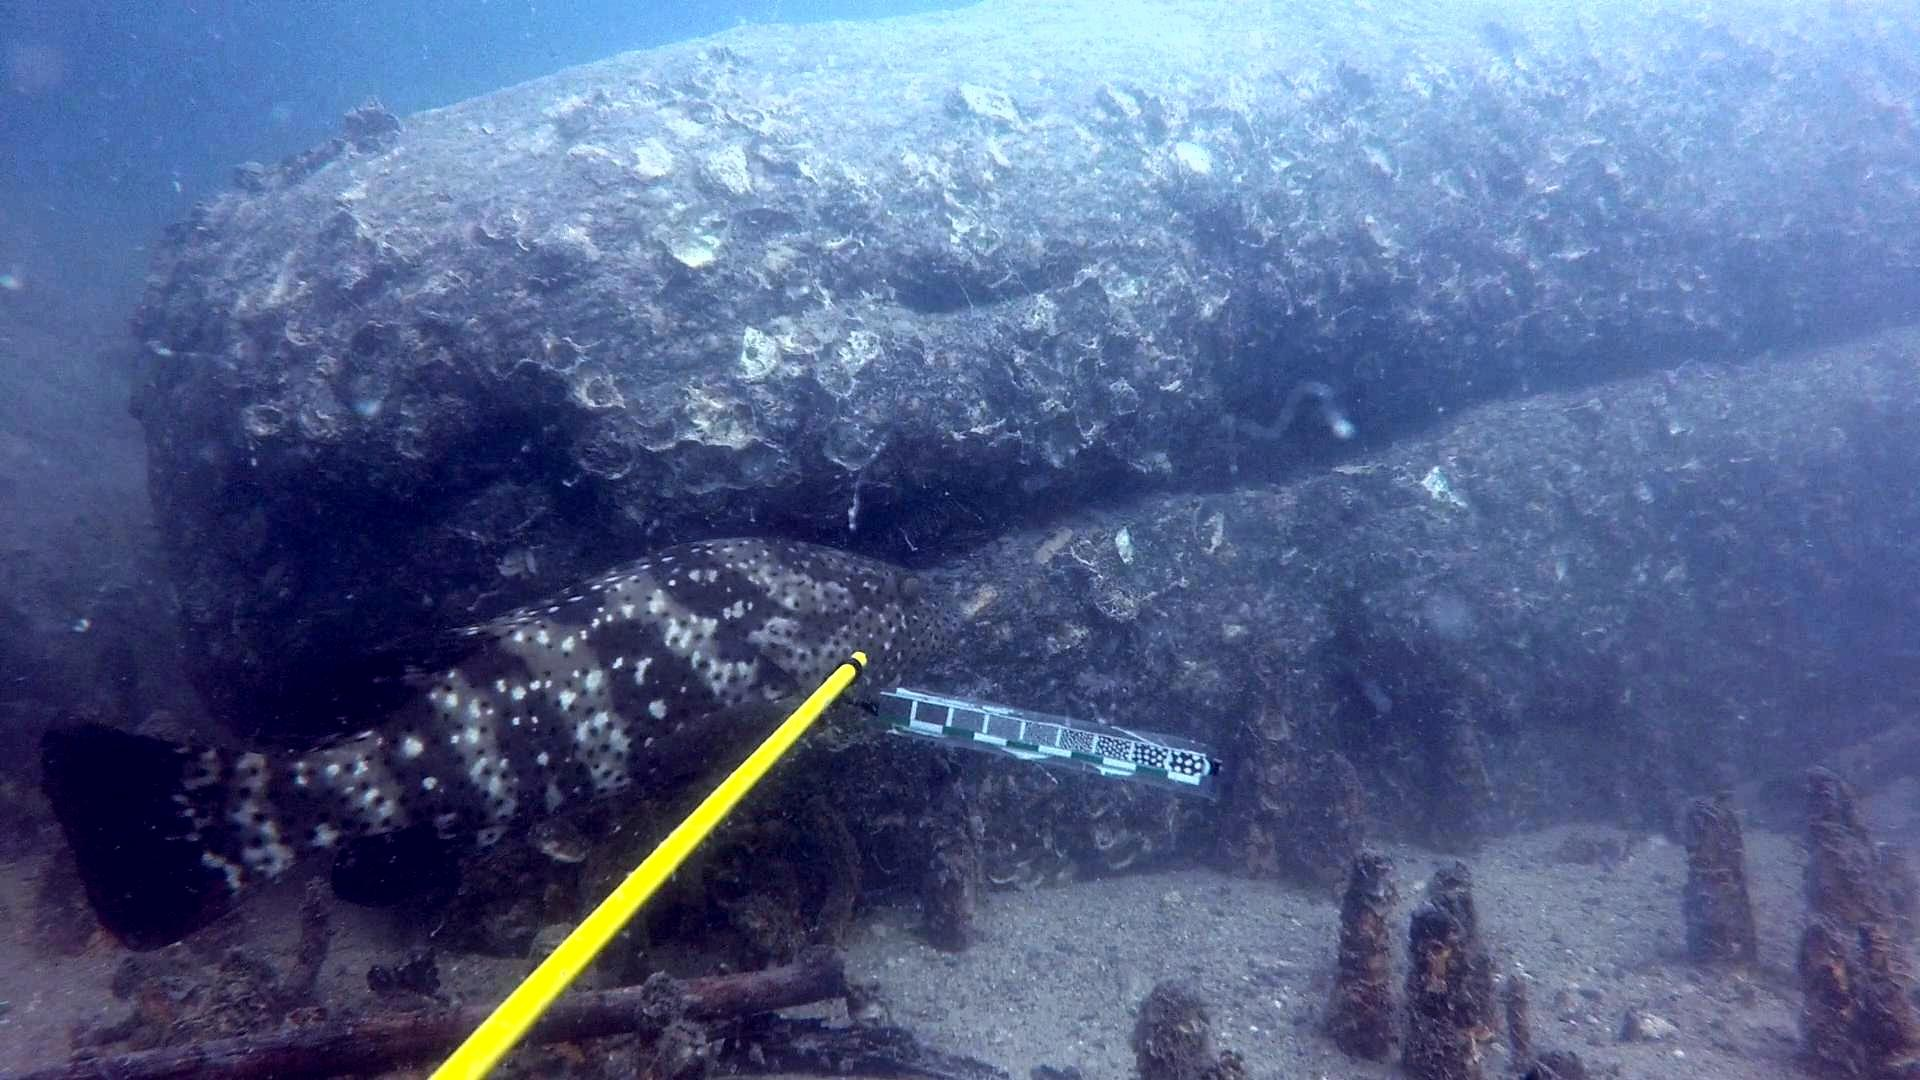epinephelus: (34, 531, 975, 959)
